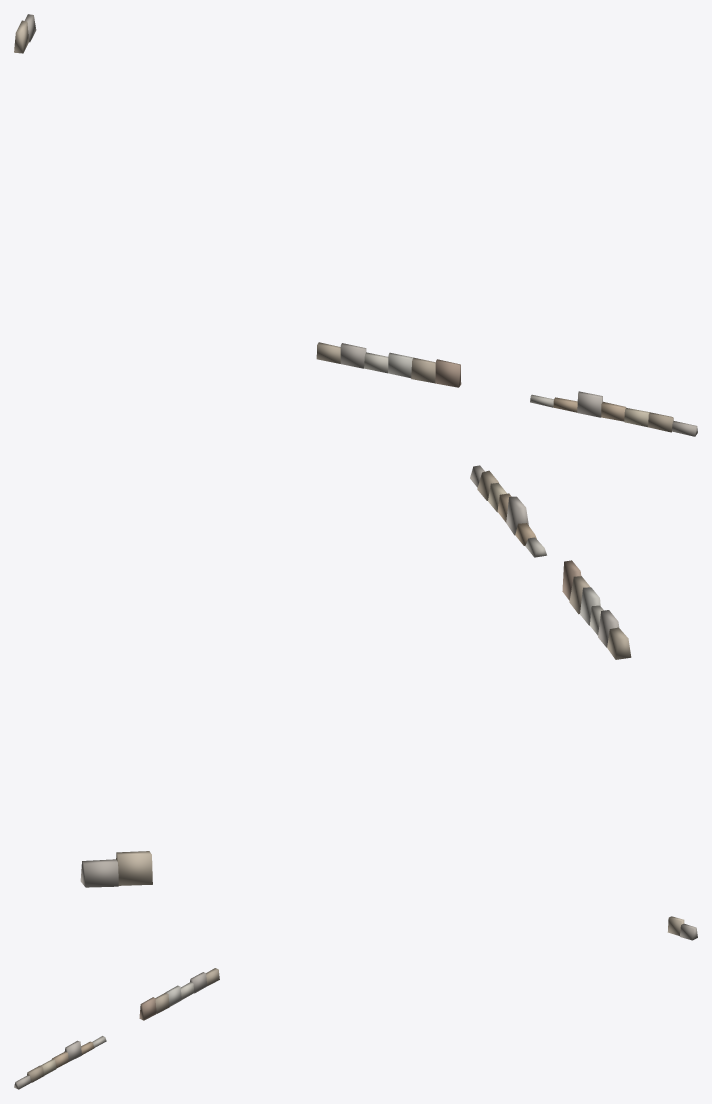
The model's file is farm_-58_-46_far.glb.
3 views of the same model, one above another, from view 1: azimuth 30°, elevation 25°; view 2: azimuth 150°, elevation 25°; view 3: azimuth 270°, elevation 25° (orthographic). The views are drawn at different scales.
Visible parts, largest first — view 1: geometry_0; view 2: geometry_0; view 3: geometry_0.
Boxes of the visible parts, x1,y1,x2,y2 form: geometry_0: [14, 14, 697, 436]; geometry_0: [80, 465, 631, 887]; geometry_0: [14, 916, 697, 1089].
Size of the model in its own units: 18.33 by 9.17 by 60.86.
